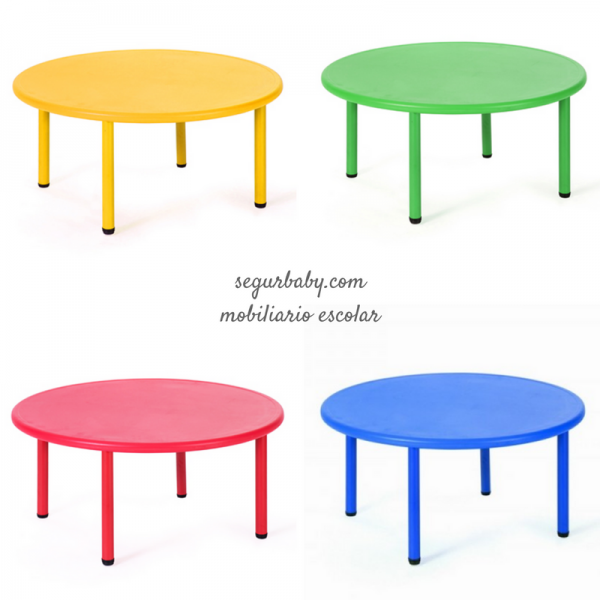m01: (12, 49, 284, 244), (320, 372, 586, 567), (10, 378, 285, 565), (326, 41, 587, 225)
